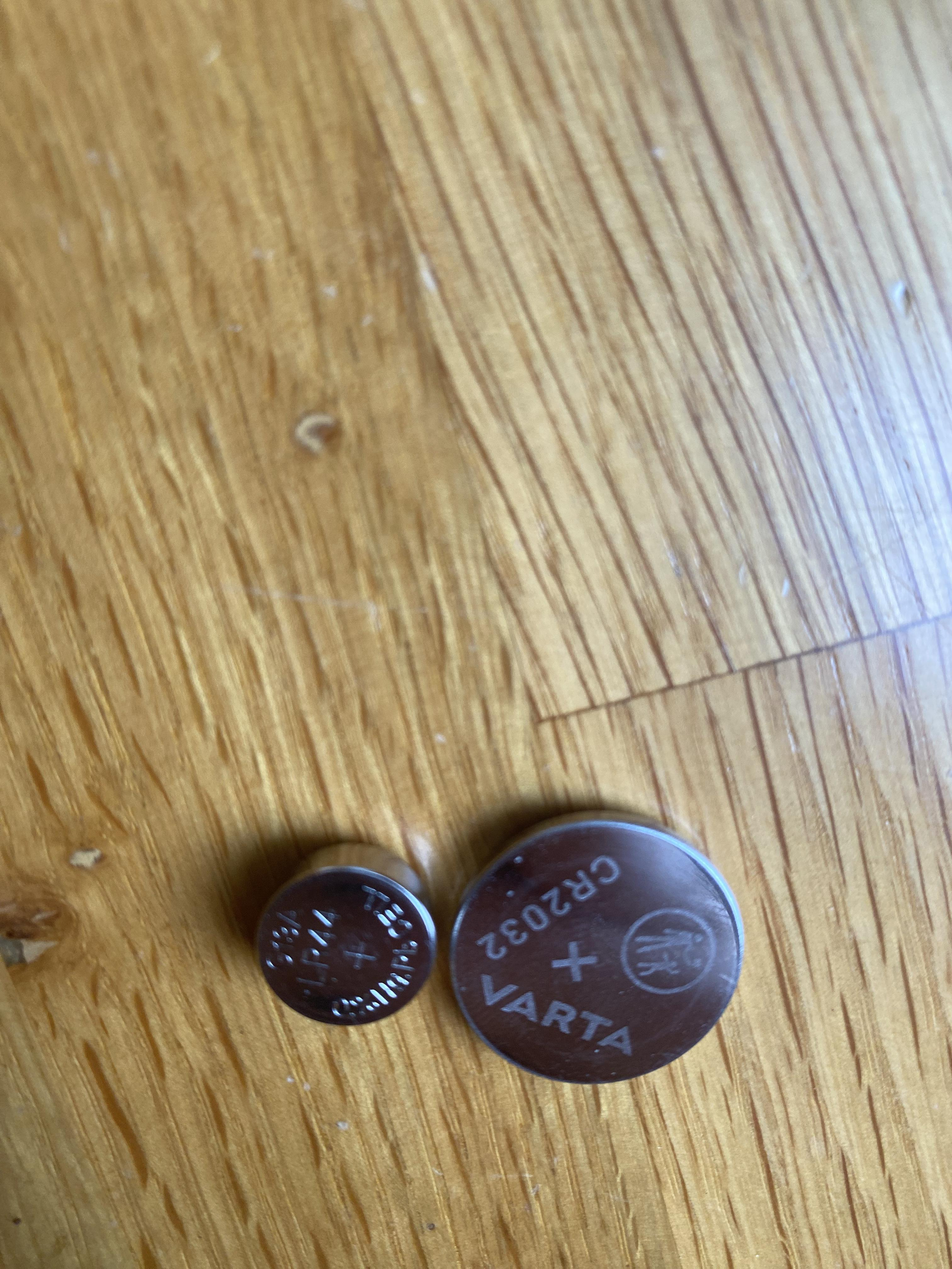COIN: (448, 814, 744, 1085), (253, 841, 438, 1026)
